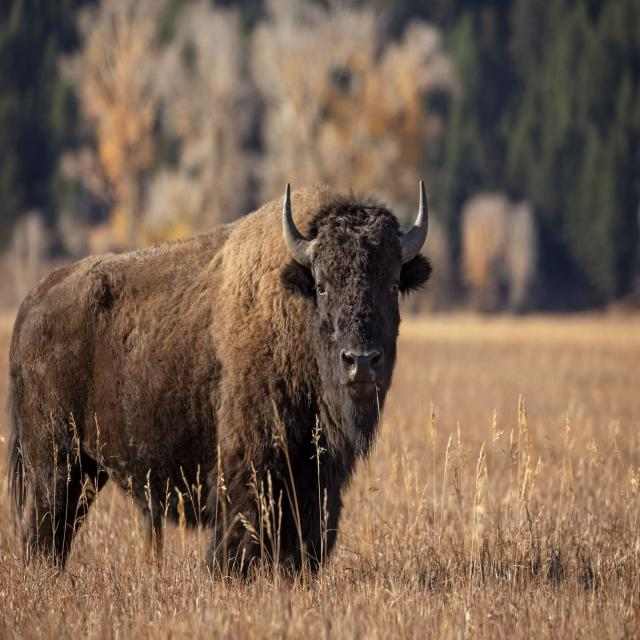Bison: (0, 147, 443, 599)
